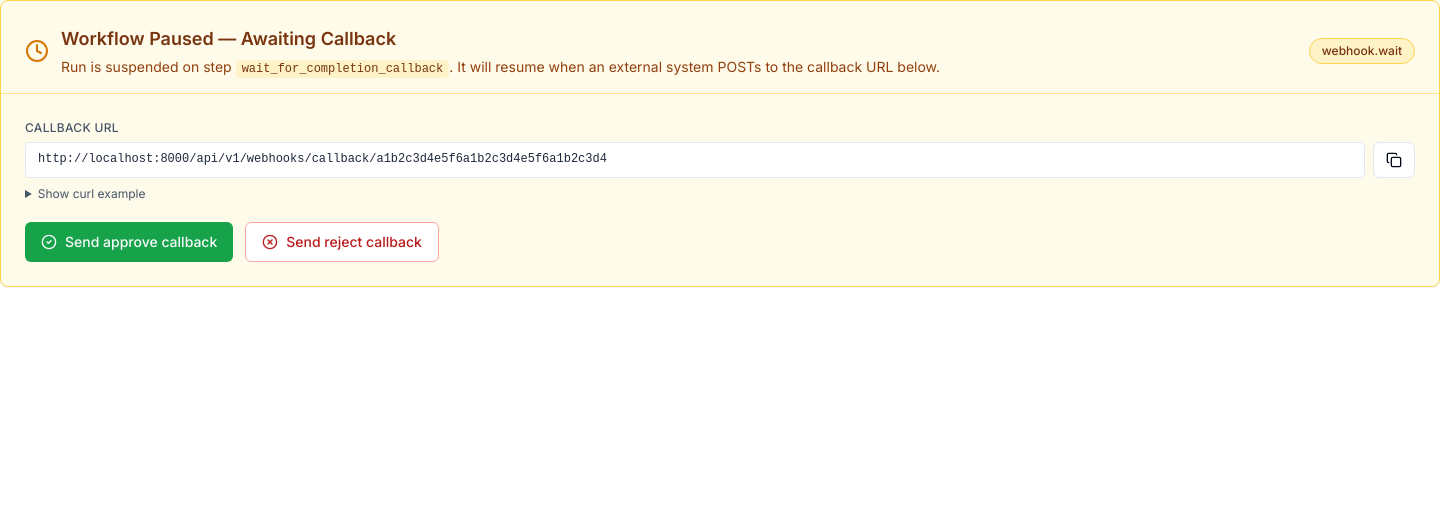
Scenario: WebhookCallbackPanel › refuses to submit approve data that is a JSON array (must be object)
The image size is (1440, 510).
Click the button with test id "webhook-approve-trigger".
click(129, 242)  # box [25, 222, 233, 262]
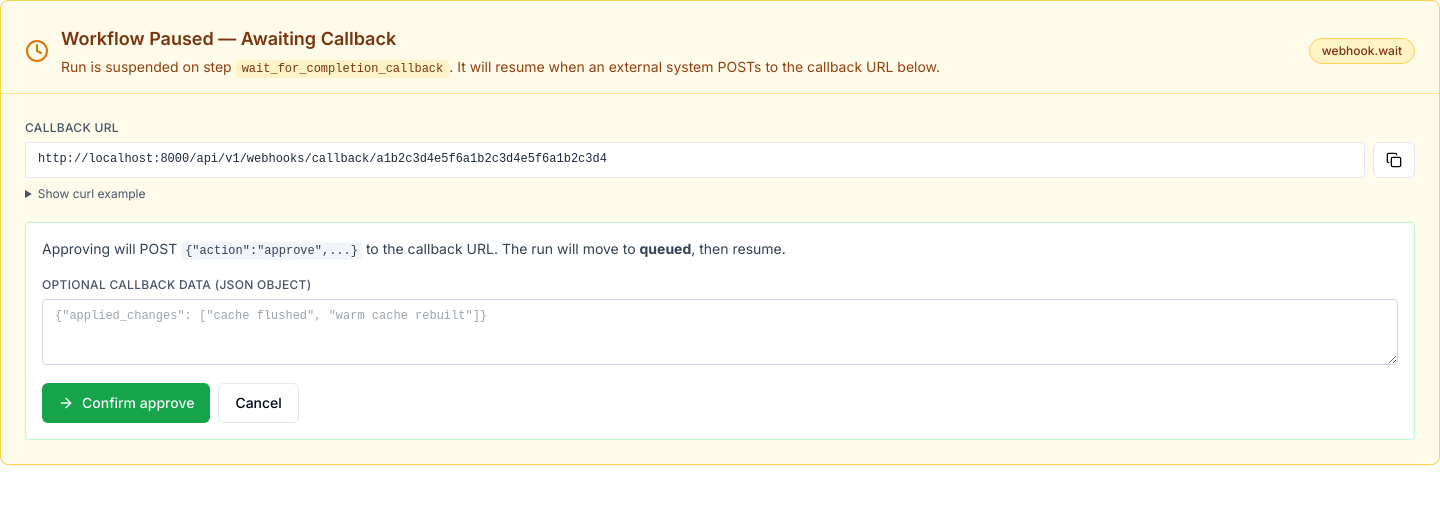
Type "[\"nope\"]" into the text box with test id "webhook-approve-data".
click(720, 332); type("[\"nope\"]")  # box [42, 299, 1398, 365]
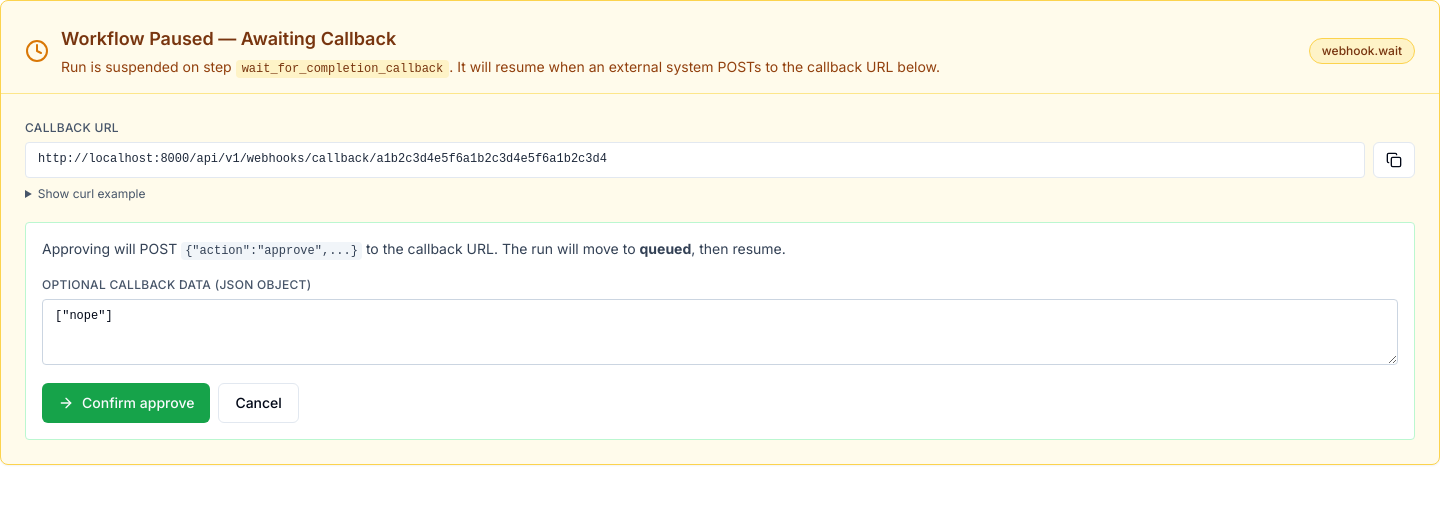
Click the button with test id "webhook-approve-submit".
click(126, 403)  # box [42, 383, 210, 423]
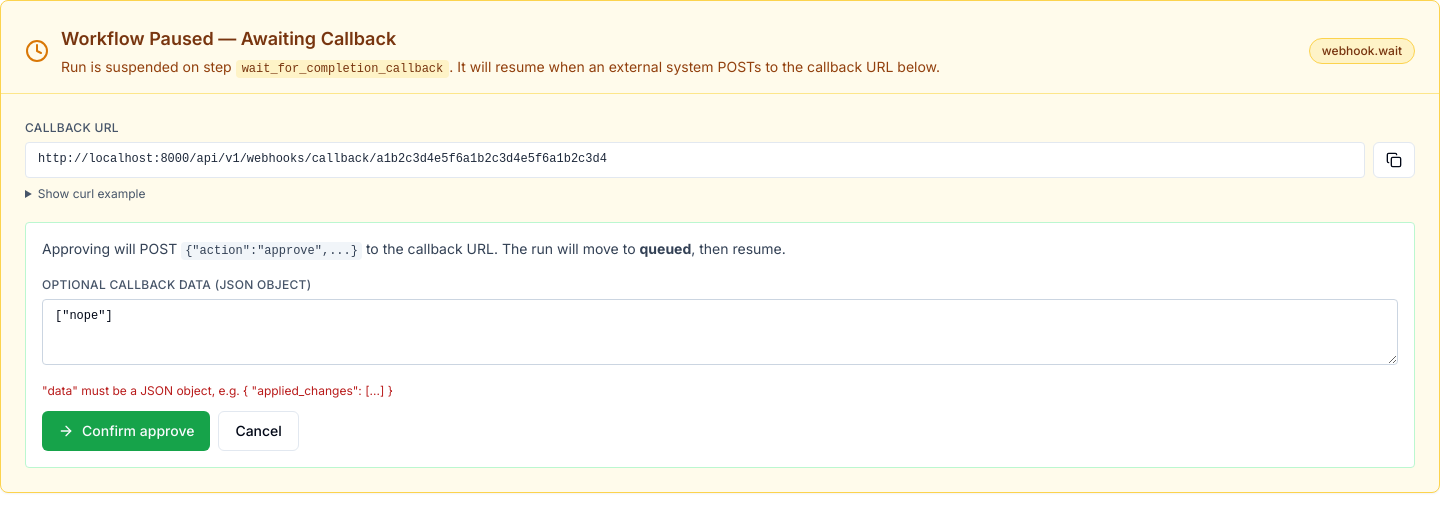
Expected: the message shows "JSON object", [42, 383, 393, 398]
